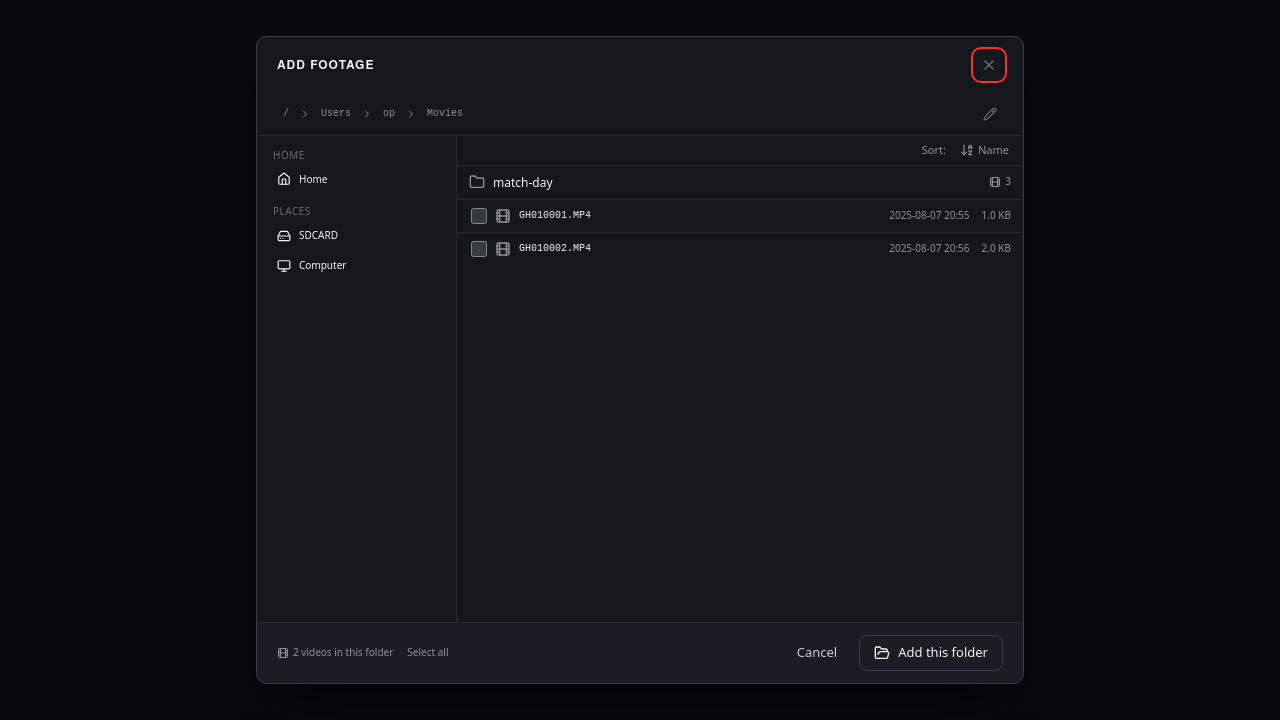
Test: FolderPicker › surfaces a commit error inline and stays open
Click the button "Add this folder". click: (931, 653)
box: [859,635,1003,671]
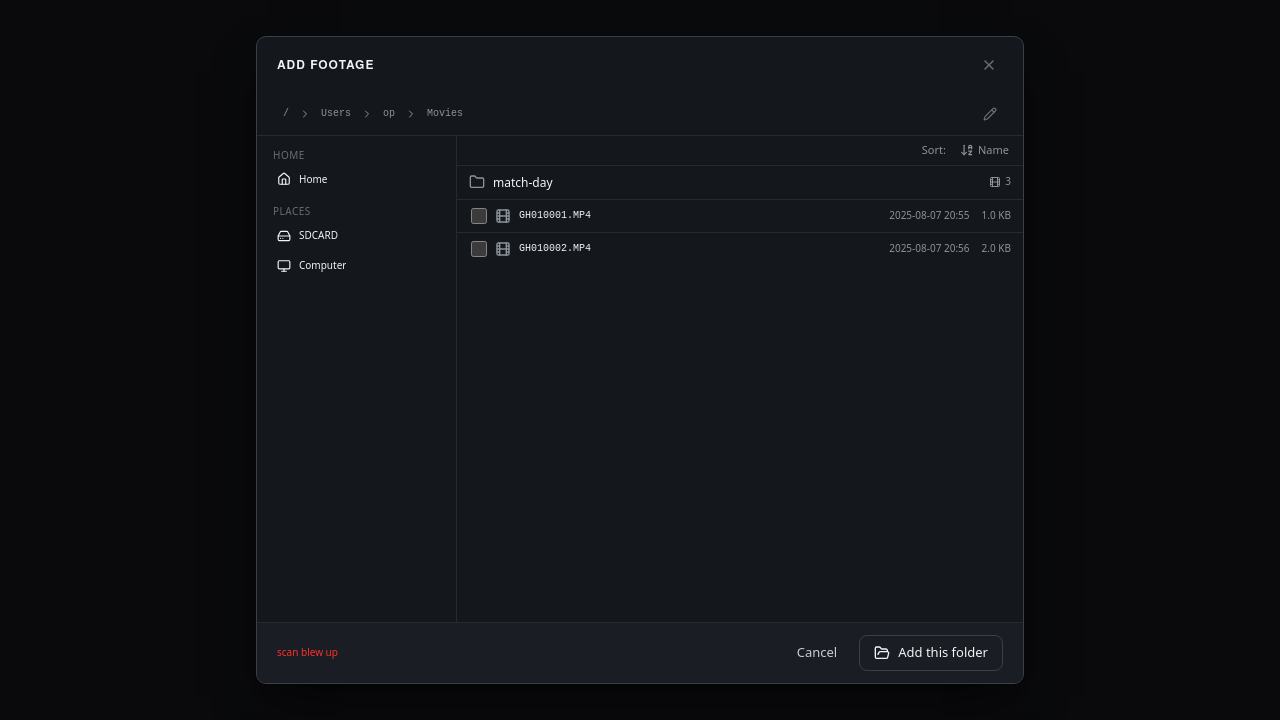
Expected: the message reads "scan blew up", [277,645,338,659]
